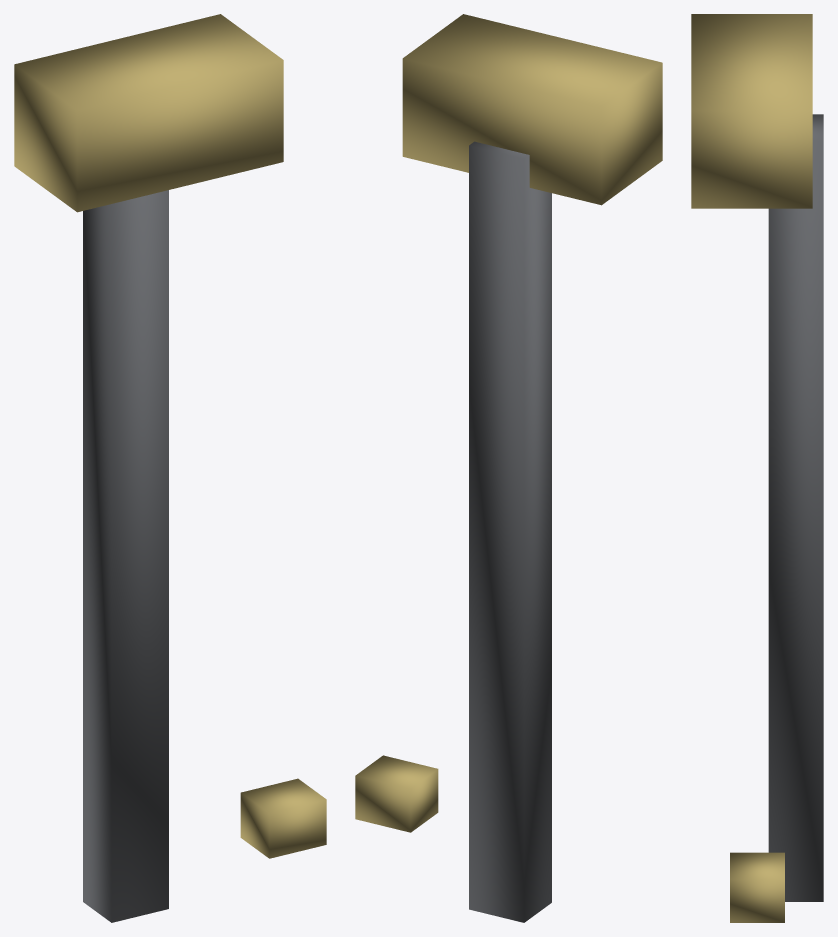
The model's file is dock_light_11.glb.
3 renders of one model, left to right at view 1: azimuth 30°, elevation 25°; view 2: azimuth 150°, elevation 25°; view 3: azimuth 270°, elevation 25°, orthographic. The views are drawn at different scales.
Visible parts, largest first — view 1: world; view 2: world; view 3: world.
Boxes of the visible parts, bbox=[...] form: world: bbox=[14, 14, 326, 922]; world: bbox=[355, 14, 662, 922]; world: bbox=[691, 14, 823, 922].
Size of the model in its own units: 0.4888 by 1.49 by 0.216.
